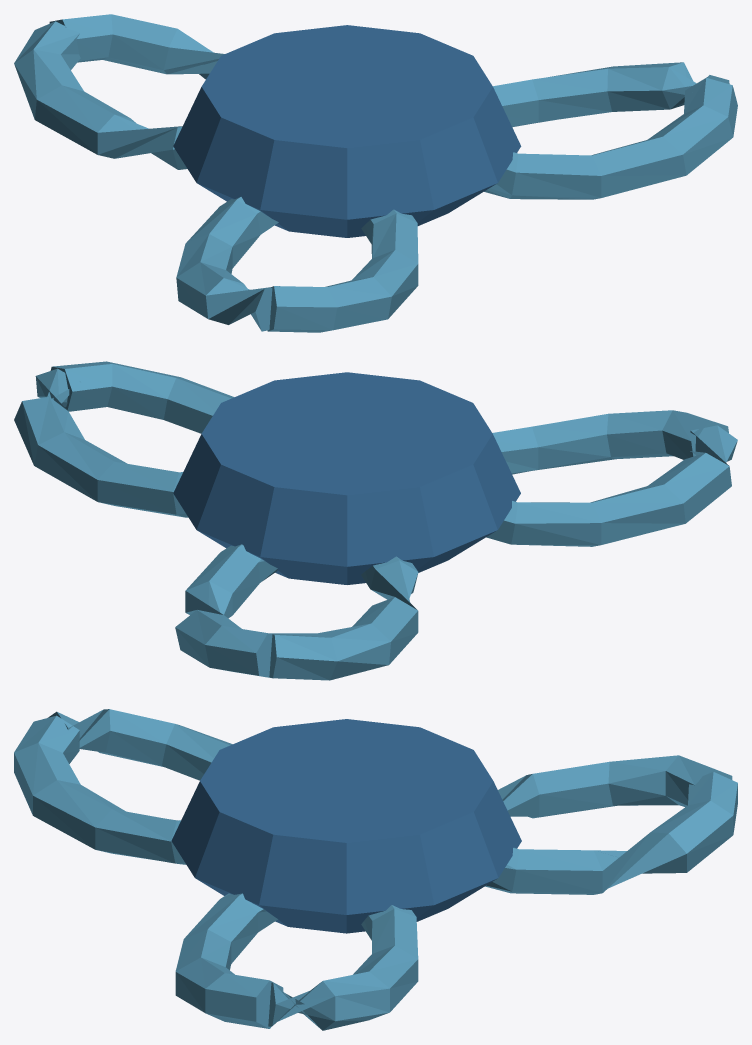
The model's file is AzureTangleRoots.obj.
The picture shows the model from 3 angles, top to bottom: view 1: azimuth 30°, elevation 25°; view 2: azimuth 150°, elevation 25°; view 3: azimuth 270°, elevation 25°; orthographic projection.
Parts seen in each view (by area): view 1: AzureTangleRoots_AzureTangleStrands, AzureTangleRoots_AzureTangleBody; view 2: AzureTangleRoots_AzureTangleStrands, AzureTangleRoots_AzureTangleBody; view 3: AzureTangleRoots_AzureTangleStrands, AzureTangleRoots_AzureTangleBody.
Part boxes in pixels (x1,y1,x2,y2): AzureTangleRoots_AzureTangleStrands: (14,14,737,332); AzureTangleRoots_AzureTangleBody: (173,25,521,237); AzureTangleRoots_AzureTangleStrands: (14,361,737,680); AzureTangleRoots_AzureTangleBody: (173,372,520,584); AzureTangleRoots_AzureTangleStrands: (14,709,737,1030); AzureTangleRoots_AzureTangleBody: (171,719,521,933).
Size of the model in its own units: 3.62 by 0.6 by 3.7.
